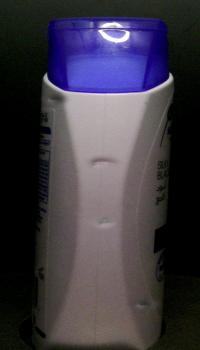dent_unacceptable: (81, 146, 120, 173), (85, 211, 117, 237), (130, 294, 162, 320), (44, 89, 78, 113)
